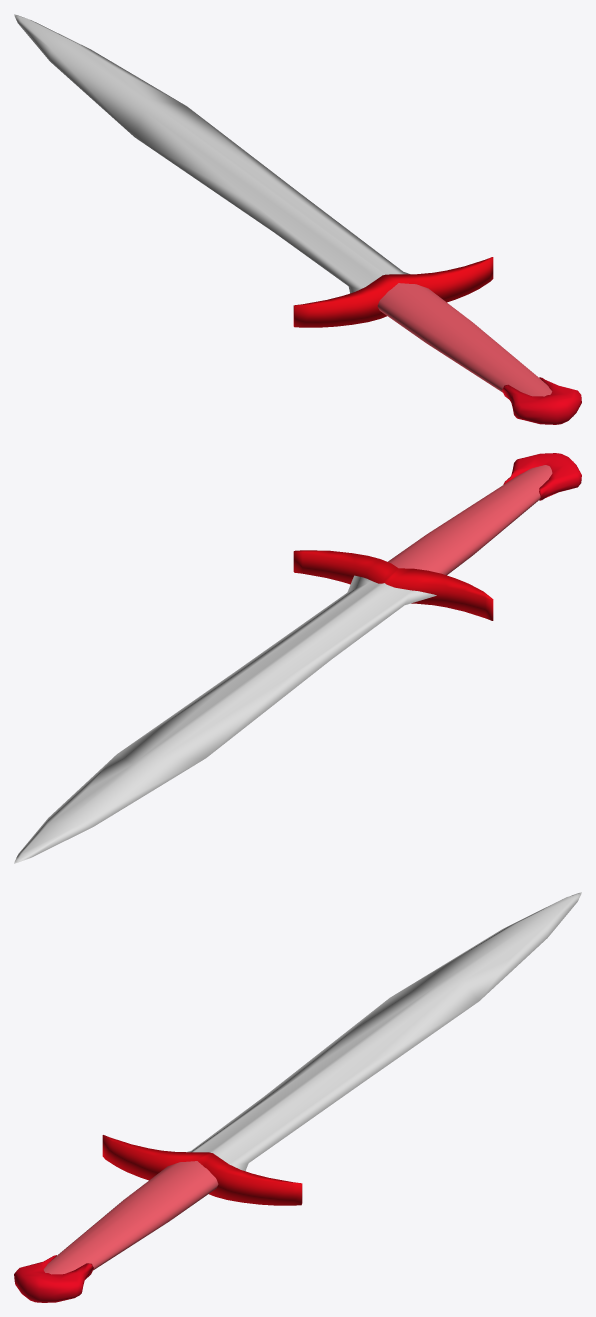
File: Sting Sword 1.fbx
3 views of the same model, one above another, from view 1: azimuth 30°, elevation 25°; view 2: azimuth 150°, elevation 25°; view 3: azimuth 330°, elevation 25° (orthographic).
Visible parts, largest first — view 1: Lame_Plane; view 2: Lame_Plane; view 3: Lame_Plane.
Part boxes in pixels (x1,y1,x2,y2): Lame_Plane: [14, 14, 581, 424]; Lame_Plane: [14, 453, 581, 863]; Lame_Plane: [14, 892, 581, 1302].
Bounding box in the file's own units: 1269 × 171 × 6060.
